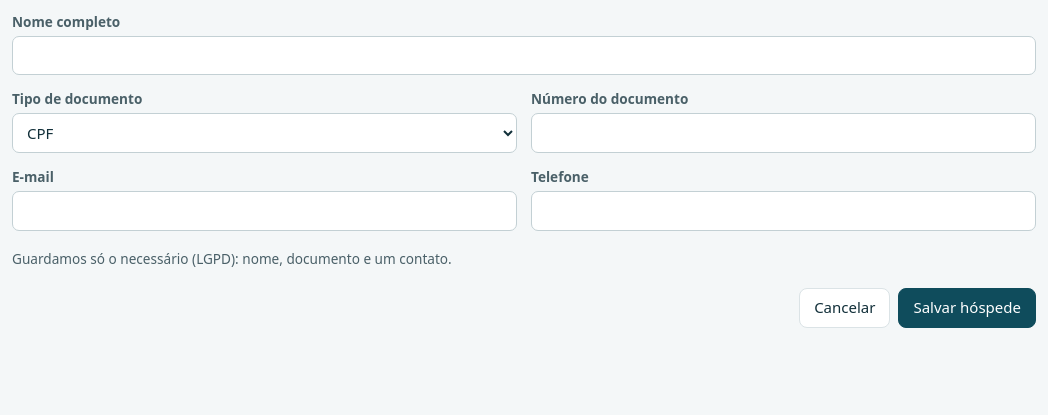
Test: HospedeForm › mostra a mensagem da API (CPF inválido) sem fechar
Type "Ana Lima" into the field labelled "Nome completo" at (524, 56), box [12,36,1036,76]
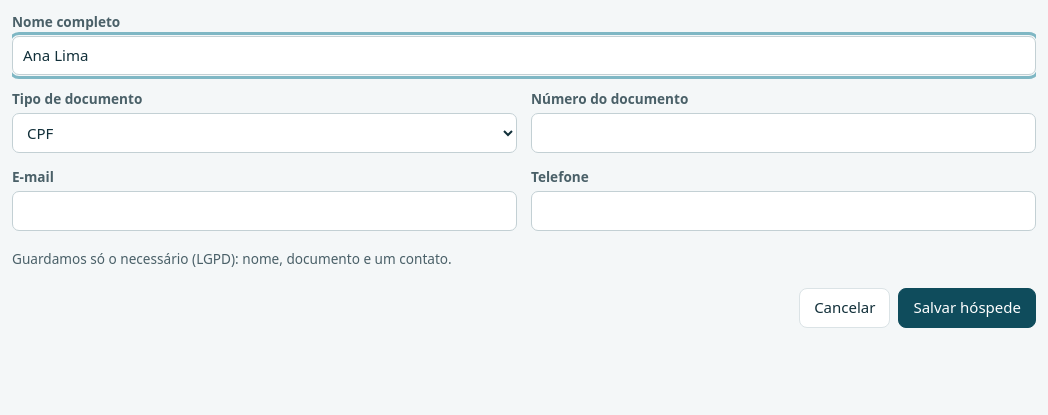
Type "123" into the field labelled "Número do documento" at (784, 133), box [531,113,1036,153]
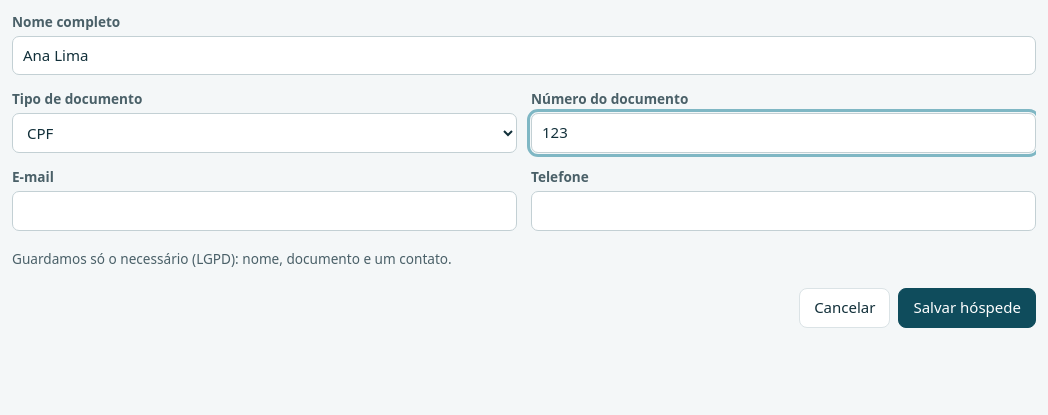
Type "a@b.com" into the field labelled "E-mail" at (264, 211), box [12,191,517,231]
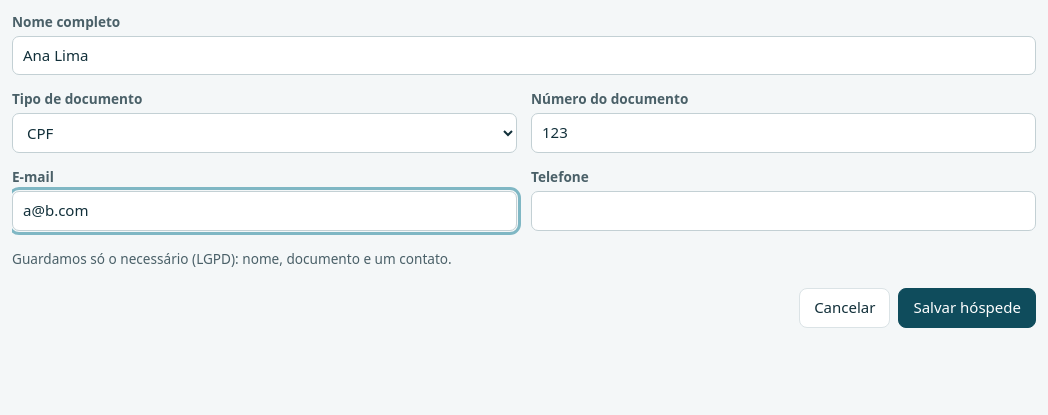
Click the button "Salvar hóspede" at (967, 308), box [898,288,1036,328]
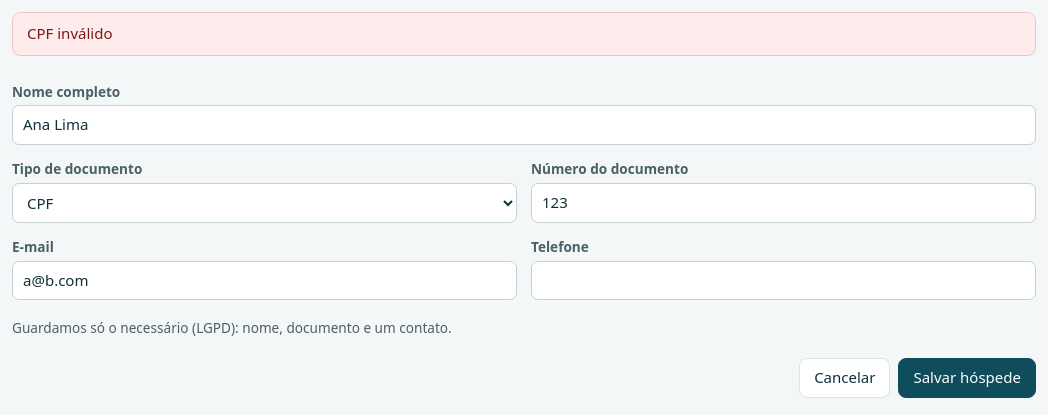
Check: the text "CPF inválido" is shown, box [12,12,1036,56]
